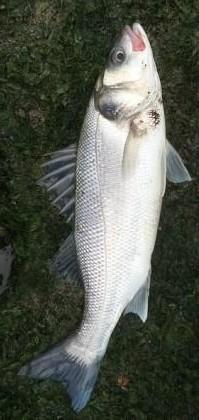fish: (18, 23, 190, 410)
